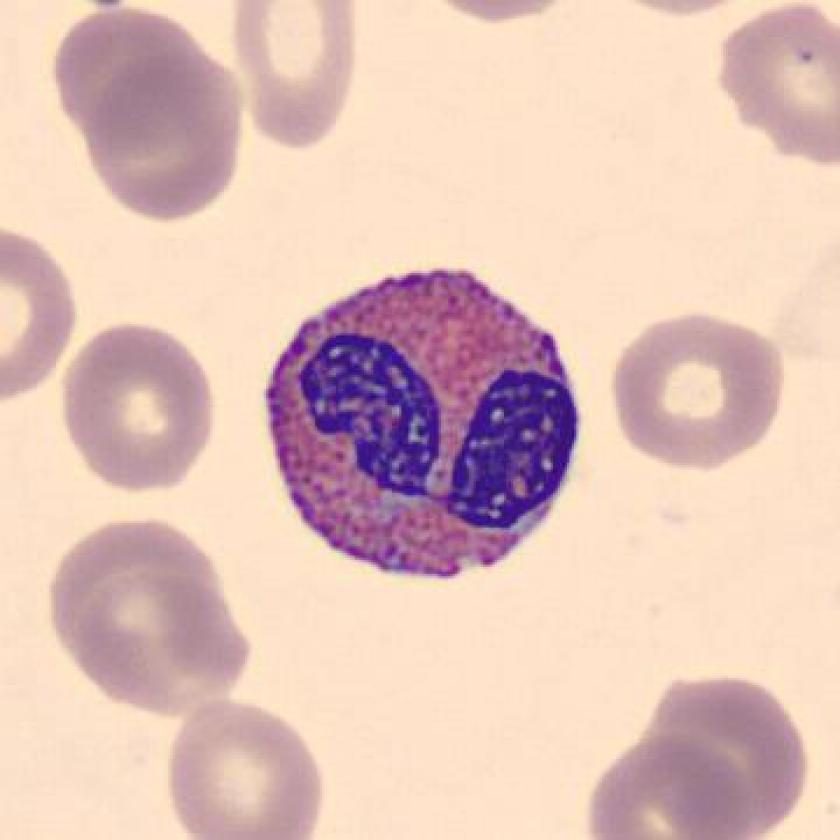eosinophil: (248, 256, 589, 603)
